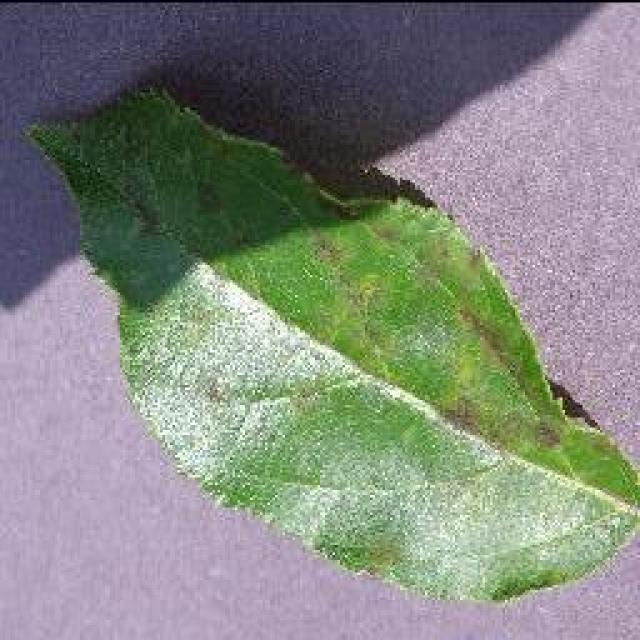apple scab disease: (22, 77, 638, 605)
